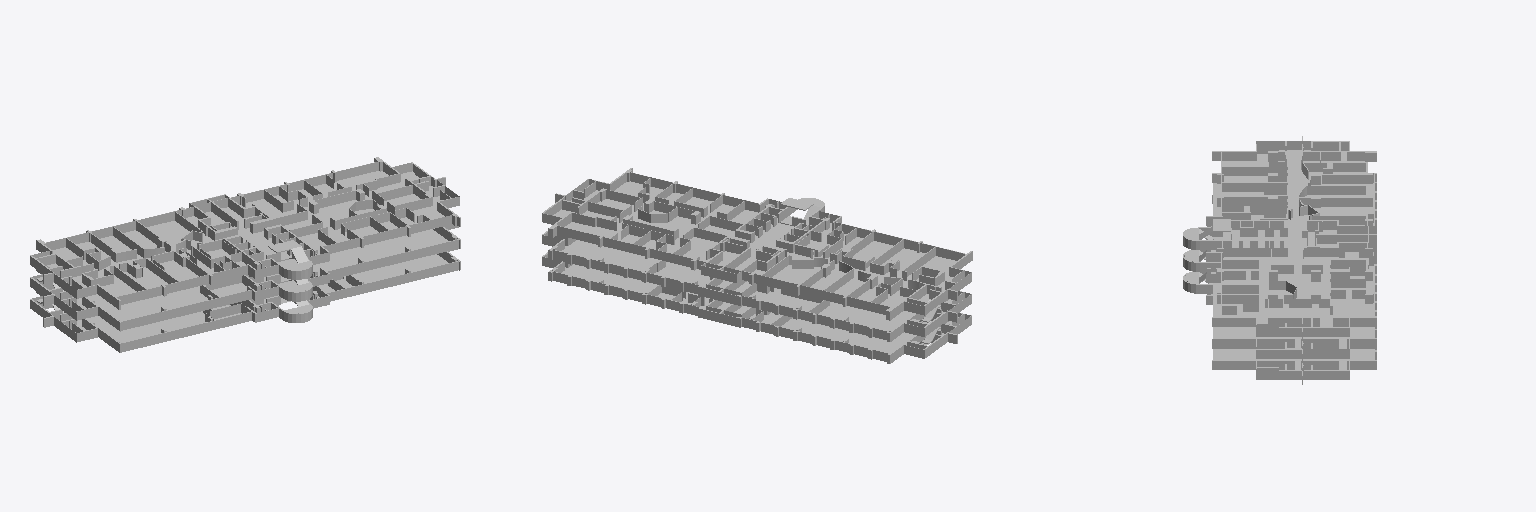
The model's file is decimo_quinto_versao_01.obj.
3 views of the same model, side by side, from view 1: azimuth 30°, elevation 25°; view 2: azimuth 150°, elevation 25°; view 3: azimuth 270°, elevation 25° (orthographic).
Bounding box in the file's own units: 64.28 × 9.48 × 27.01.